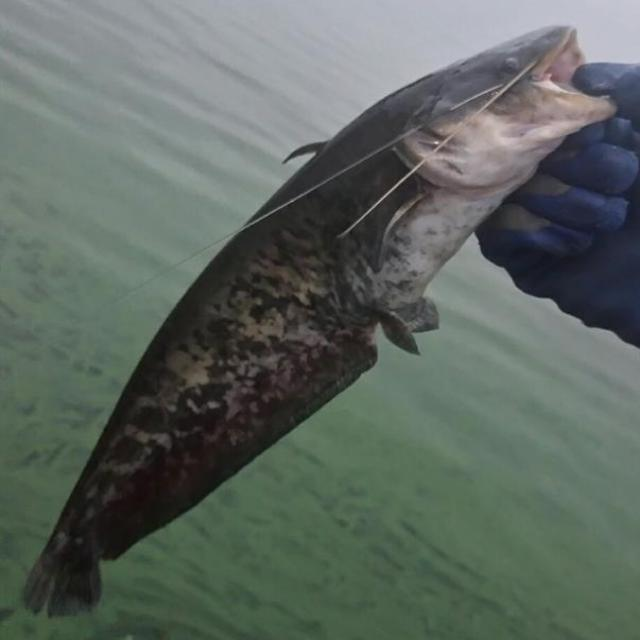Catfish: (23, 26, 622, 640)
